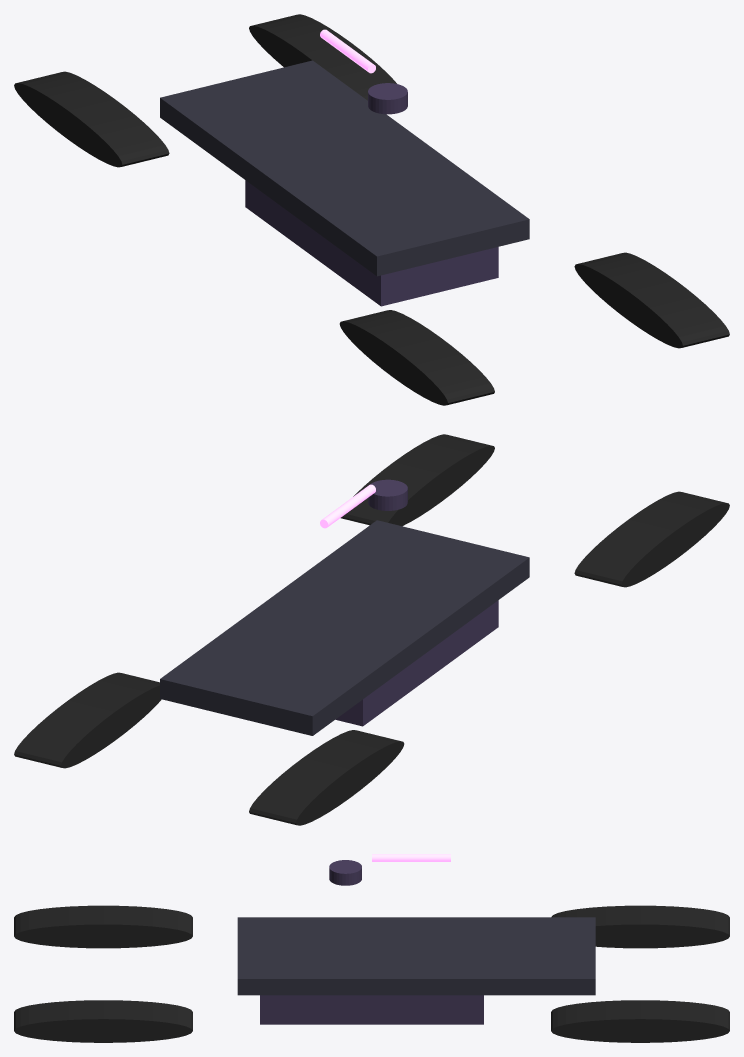
File: CH_ParallaxScout_LOD2.glb
3 views of the same model, one above another, from view 1: azimuth 30°, elevation 25°; view 2: azimuth 150°, elevation 25°; view 3: azimuth 270°, elevation 25° (orthographic). The views are drawn at different scales.
Parts seen in each view (by area): view 1: Cube.001, Cylinder, Cylinder.001, Cylinder.002, Cube, Cylinder.003, Cylinder.004, Cylinder.005; view 2: Cube.001, Cylinder.001, Cylinder, Cylinder.003, Cylinder.002, Cube, Cylinder.004, Cylinder.005; view 3: Cube.001, Cylinder, Cylinder.002, Cylinder.003, Cube, Cylinder.001, Cylinder.004, Cylinder.005.
Boxes of the visible parts, x1,y1,x2,y2 form: Cube.001: (160, 60, 529, 276); Cylinder: (339, 310, 494, 405); Cylinder.001: (14, 71, 169, 167); Cylinder.002: (574, 252, 729, 348); Cube: (245, 180, 498, 306); Cylinder.003: (249, 14, 396, 100); Cylinder.004: (368, 83, 407, 114); Cylinder.005: (320, 29, 375, 73); Cube.001: (160, 520, 529, 735); Cylinder.001: (249, 730, 404, 825); Cylinder: (574, 491, 729, 587); Cylinder.003: (14, 672, 161, 768); Cylinder.002: (341, 434, 494, 526); Cube: (335, 600, 498, 726); Cylinder.004: (368, 479, 407, 510); Cylinder.005: (320, 484, 375, 528); Cube.001: (237, 917, 595, 995); Cylinder: (14, 905, 192, 948); Cylinder.002: (14, 1000, 192, 1042); Cylinder.003: (551, 1000, 729, 1042); Cube: (260, 995, 483, 1024); Cylinder.001: (551, 905, 729, 948); Cylinder.004: (329, 860, 361, 885); Cylinder.005: (372, 854, 450, 861).
Size of what is drawn, in the model's own units: 4.08 by 2.46 by 10.88.
